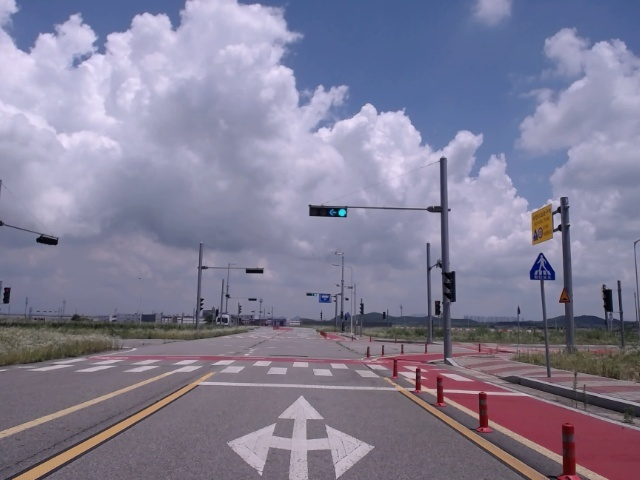all_green_4: (310, 203, 348, 220)
